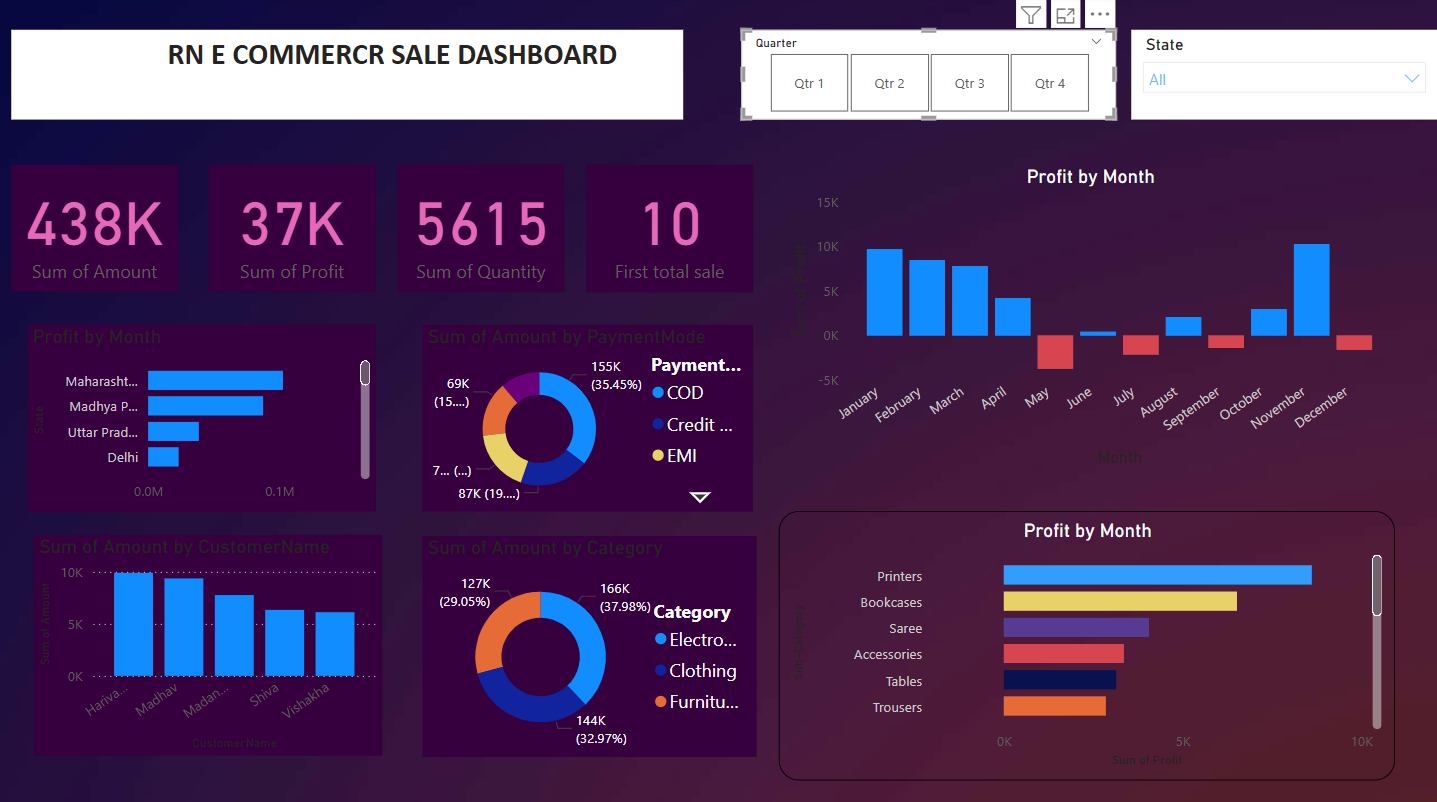

This screenshot's page, from the dashboard's own definition file:
{"tool":"powerbi","page":{"name":"Page 1","canvas":[1280,720],"ordinal":0},"visuals":[{"type":"textbox","box":[10,30,598.8,80],"z":0},{"type":"barChart","title":"Profit by Month","fields":{"Category":["Details.Sub-Category"],"Y":["Details.Profit"]},"box":[693.3,458.9,548.9,240],"z":1000},{"type":"columnChart","title":"Profit by Month","fields":{"Category":["Orders.Order Date.Variation.Date Hierarchy.Month"],"Y":["Details.Profit"]},"box":[700,150,542.5,273.8],"z":2000},{"type":"donutChart","fields":{"Category":["Details.Category"],"Y":["Details.Amount"]},"box":[376.7,481.1,297.8,196.7],"z":3000},{"type":"donutChart","fields":{"Y":["Details.Amount"],"Category":["Details.PaymentMode"]},"box":[376.7,292.2,294.4,166.7],"z":4000},{"type":"card","fields":{"Values":["Details.Amount"]},"box":[10,150,148.9,113.3],"z":5000},{"type":"card","fields":{"Values":["Details.total sale"]},"box":[522.2,150,148.9,113.3],"z":6000},{"type":"card","fields":{"Values":["Details.Quantity"]},"box":[354.4,150,148.9,113.3],"z":7000},{"type":"card","fields":{"Values":["Details.Profit"]},"box":[185.6,150,148.9,113.3],"z":8000},{"type":"barChart","title":"Profit by Month","fields":{"Category":["Orders.State"],"Y":["Details.Amount"]},"box":[24.4,292.2,310,166.7],"z":9000},{"type":"columnChart","fields":{"Category":["Orders.CustomerName"],"Y":["Details.Amount"]},"box":[30,480,310,196.7],"z":10000},{"type":"slicer","fields":{"Values":["Orders.Order Date.Variation.Date Hierarchy.Quarter"]},"box":[660,30,333.8,80],"z":11000},{"type":"slicer","fields":{"Values":["Orders.State"]},"box":[1007.5,30,272.5,80],"z":12000}]}

Visuals, with their boxes in screenshot pixels (x1, y1, x2, y2), scaled from the page's 1280x720 canvas onto the 1437x802 screenshot:
textbox: (left=11, top=33, right=683, bottom=123)
"Profit by Month" barChart: (left=778, top=511, right=1395, bottom=778)
"Profit by Month" columnChart: (left=786, top=167, right=1395, bottom=472)
donutChart - Details.Category x Details.Amount: (left=423, top=536, right=757, bottom=755)
donutChart - Details.Amount x Details.PaymentMode: (left=423, top=325, right=753, bottom=511)
card - Details.Amount: (left=11, top=167, right=178, bottom=293)
card - Details.total sale: (left=586, top=167, right=753, bottom=293)
card - Details.Quantity: (left=398, top=167, right=565, bottom=293)
card - Details.Profit: (left=208, top=167, right=376, bottom=293)
"Profit by Month" barChart: (left=27, top=325, right=375, bottom=511)
columnChart - Orders.CustomerName x Details.Amount: (left=34, top=535, right=382, bottom=754)
slicer - Orders.Order Date.Variation.Date Hierarchy.Quarter: (left=741, top=33, right=1116, bottom=123)
slicer - Orders.State: (left=1131, top=33, right=1436, bottom=123)
